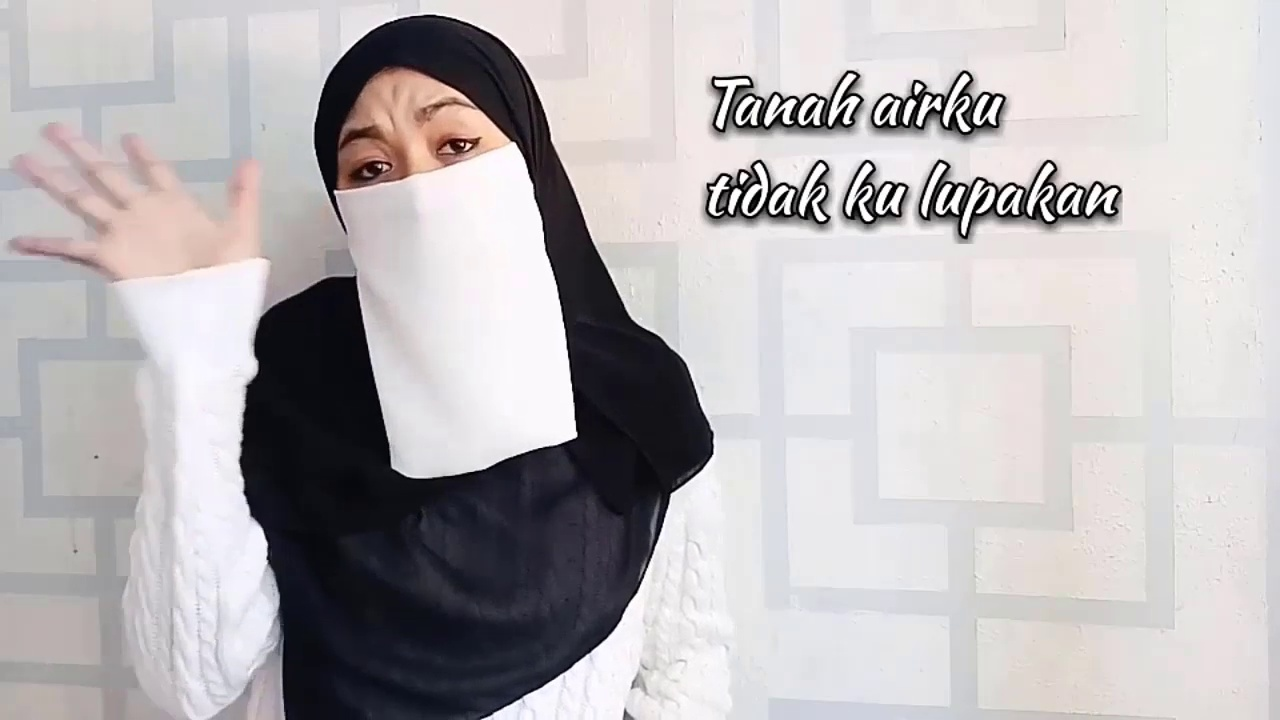KU LUPAKAN: (1, 19, 576, 458)
